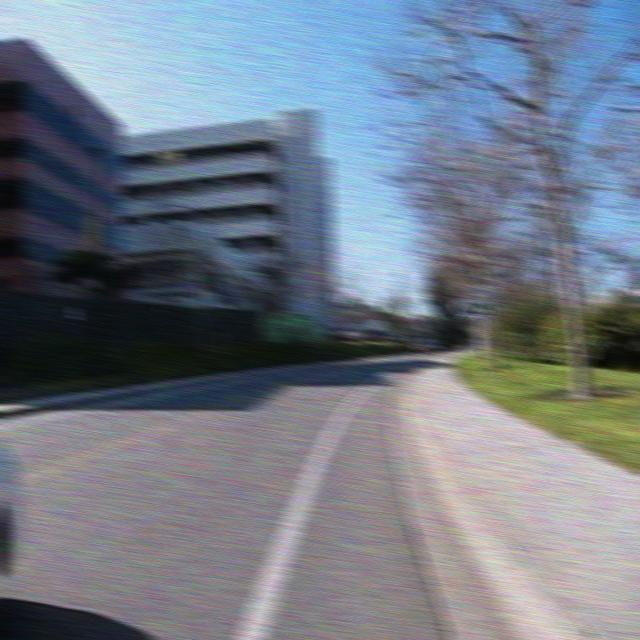speedLimit35: (466, 282, 494, 318)
